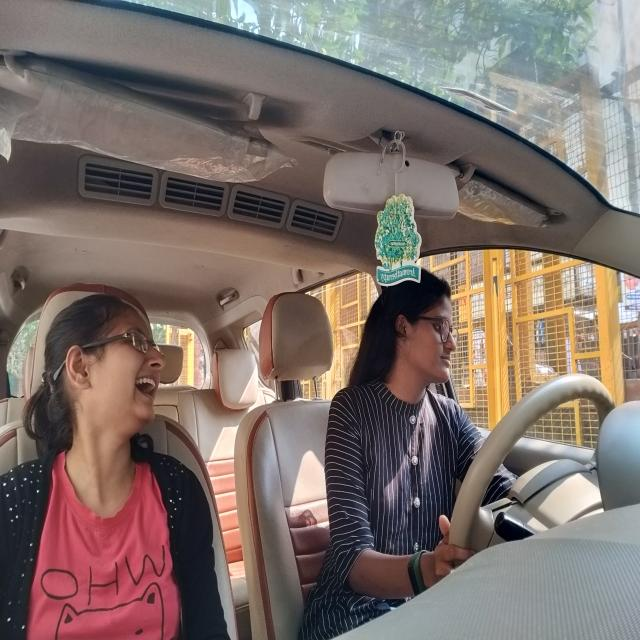person: (41, 286, 167, 434), (378, 271, 463, 390)
